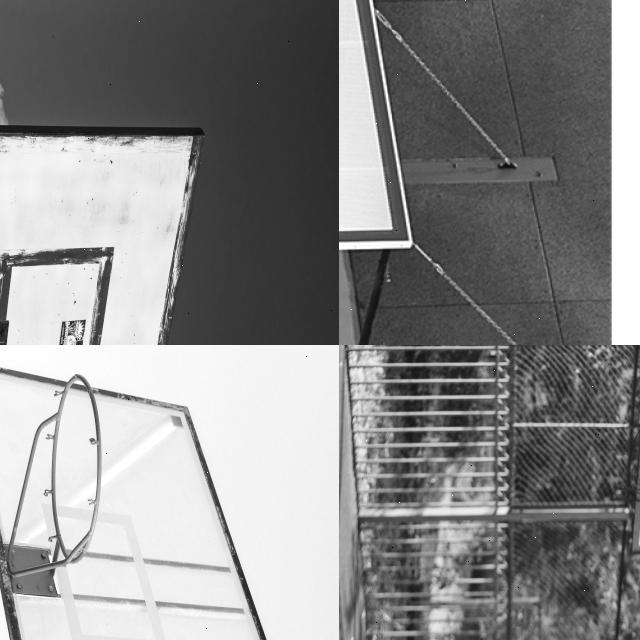backboard: (0, 369, 269, 640), (0, 131, 226, 345), (339, 0, 409, 246)
